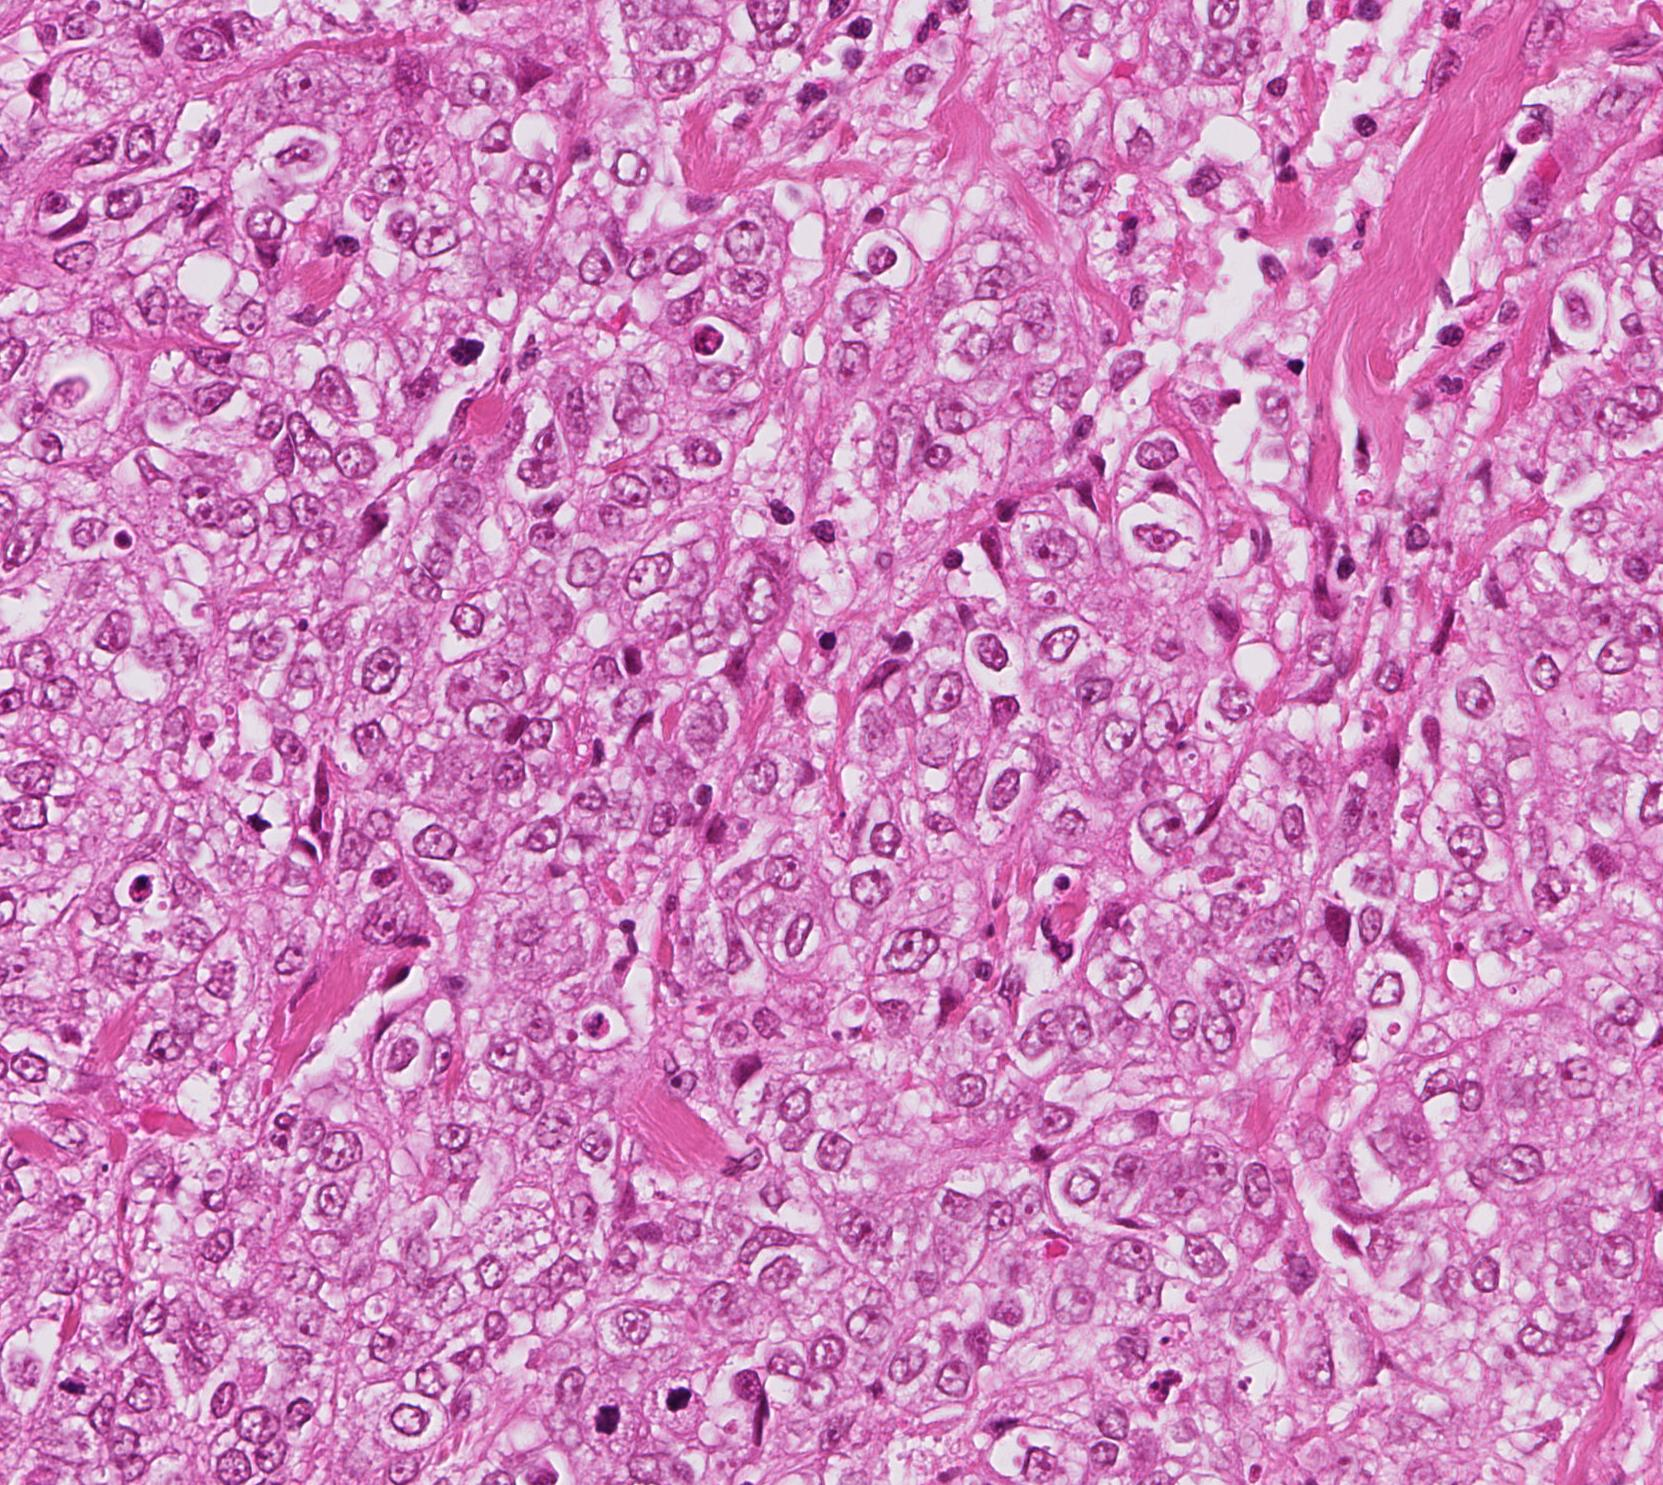mitosis: (645, 1367, 705, 1428), (576, 1388, 637, 1446)
